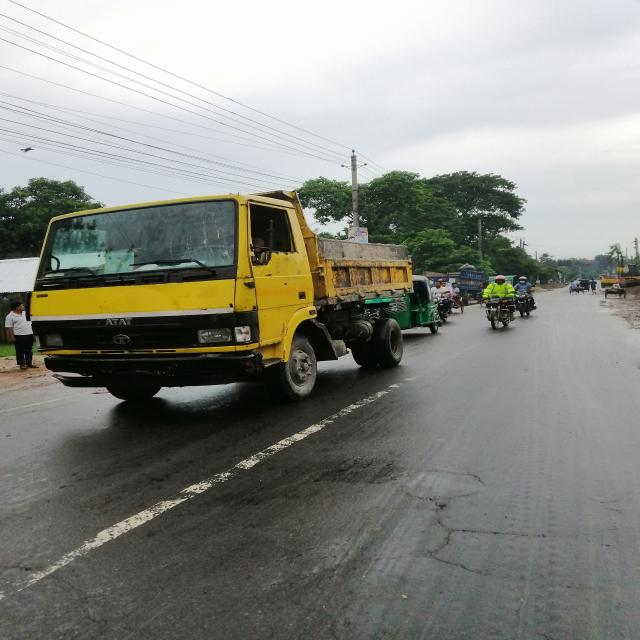Motorbike: (479, 298, 515, 332)
Pick-up-van: (25, 191, 420, 411)
